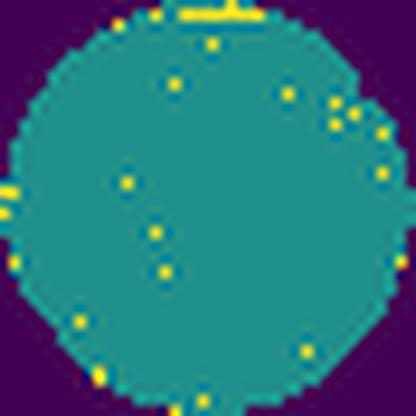Scratch: (174, 0, 265, 30)
